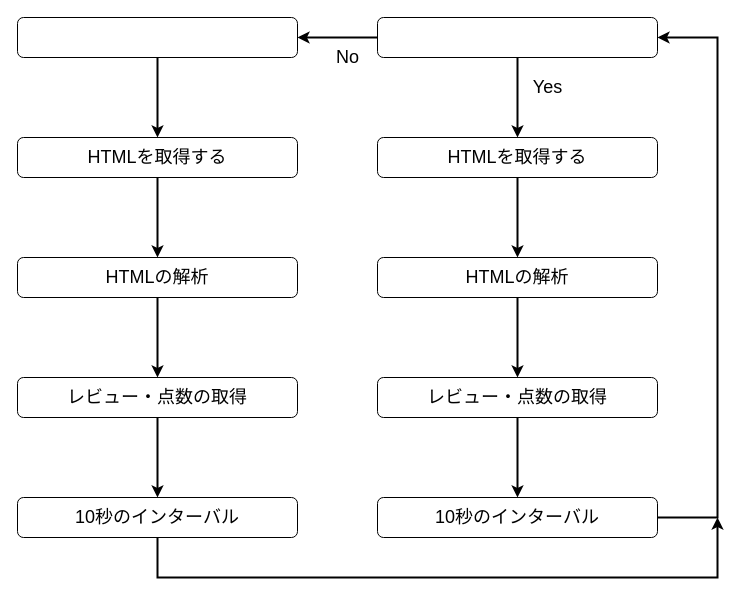
This 744x604 diagram has some shape labels left out. Here are the shapes that lost their labels. From the top down, the centre of each, then its label:
At pixel 157 37: "別作品のURLを取得する".
At pixel 517 37: "次のページのURLを取得する".
